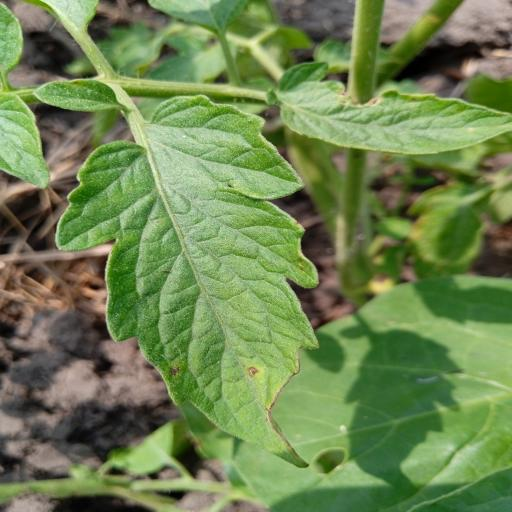Tomato_Brown_Spots: (55, 94, 317, 470)
